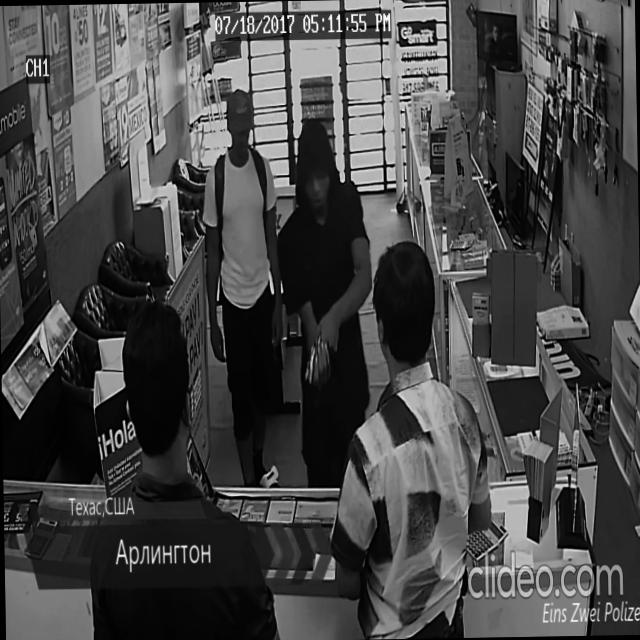gun: (302, 326, 332, 396)
person: (323, 235, 496, 640), (82, 294, 282, 640), (198, 84, 286, 488)
person with a gun: (274, 114, 376, 487)
